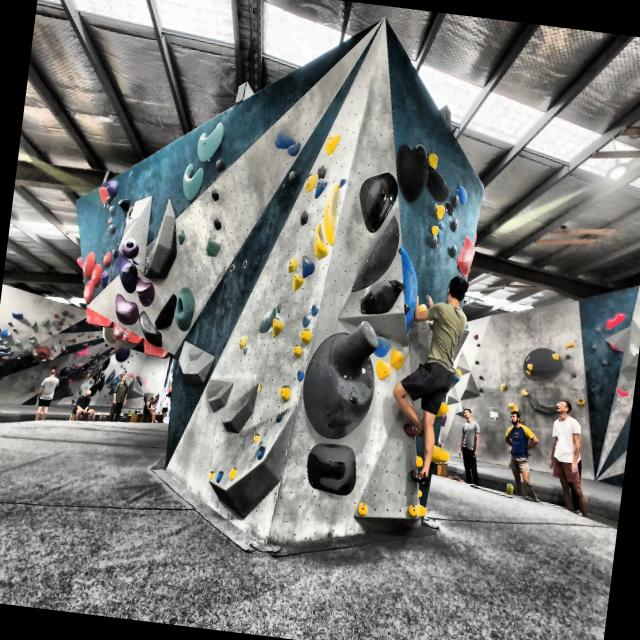Hold: (301, 316, 383, 449), (352, 212, 400, 296), (301, 440, 361, 502), (391, 246, 426, 334), (354, 169, 398, 235), (392, 142, 432, 202), (360, 275, 402, 321), (192, 116, 225, 164), (134, 310, 168, 346), (172, 286, 198, 332), (456, 231, 482, 277), (320, 182, 339, 244), (110, 253, 138, 294), (422, 166, 452, 202), (180, 160, 206, 200), (112, 293, 140, 328), (155, 292, 178, 329), (130, 276, 158, 306), (82, 306, 114, 328), (141, 338, 171, 361), (312, 224, 331, 260), (426, 444, 454, 468), (108, 326, 142, 345), (257, 305, 275, 338), (386, 344, 407, 372), (118, 239, 142, 262), (322, 129, 340, 157), (80, 250, 96, 281), (452, 181, 472, 205), (605, 312, 627, 332), (374, 358, 392, 382), (273, 130, 294, 150), (301, 248, 315, 278), (300, 170, 316, 194), (106, 178, 124, 198), (434, 399, 448, 424), (205, 238, 222, 258), (298, 327, 314, 348), (432, 196, 446, 220), (82, 277, 94, 305), (313, 180, 328, 201), (269, 317, 284, 338), (88, 264, 101, 288), (612, 382, 630, 399), (426, 150, 442, 169), (521, 356, 535, 377), (100, 247, 114, 268), (285, 140, 303, 156), (290, 273, 305, 292), (214, 468, 228, 487), (96, 187, 110, 206), (98, 270, 110, 292), (175, 226, 188, 246), (316, 160, 330, 178), (278, 384, 292, 402), (286, 256, 299, 274), (286, 166, 298, 185), (308, 302, 322, 318), (118, 196, 132, 212), (291, 342, 303, 360), (416, 502, 429, 518), (237, 334, 249, 351), (256, 442, 266, 460), (448, 244, 458, 262), (414, 451, 424, 469), (210, 188, 222, 203), (408, 502, 418, 519), (449, 217, 459, 234), (506, 399, 519, 412), (357, 502, 368, 517), (299, 210, 309, 226), (452, 362, 462, 378), (251, 430, 262, 444), (216, 154, 224, 173), (272, 412, 284, 424), (574, 395, 586, 407), (518, 386, 530, 398), (104, 222, 116, 234), (300, 314, 311, 327), (451, 194, 461, 208), (430, 223, 440, 236), (229, 466, 238, 480), (550, 352, 560, 364), (564, 340, 576, 350), (608, 342, 620, 352), (414, 486, 424, 498), (296, 368, 304, 382), (438, 220, 449, 230), (207, 469, 216, 481), (435, 229, 444, 241), (108, 205, 116, 218), (338, 177, 348, 187), (275, 302, 284, 312), (498, 382, 507, 391)
